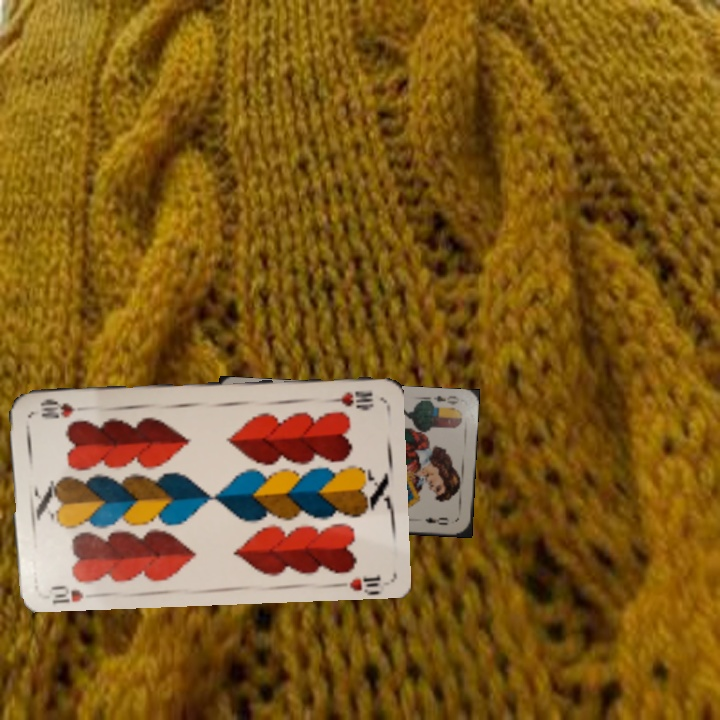EO: (422, 391, 462, 411)
H10: (321, 386, 376, 408), (47, 581, 86, 606)
